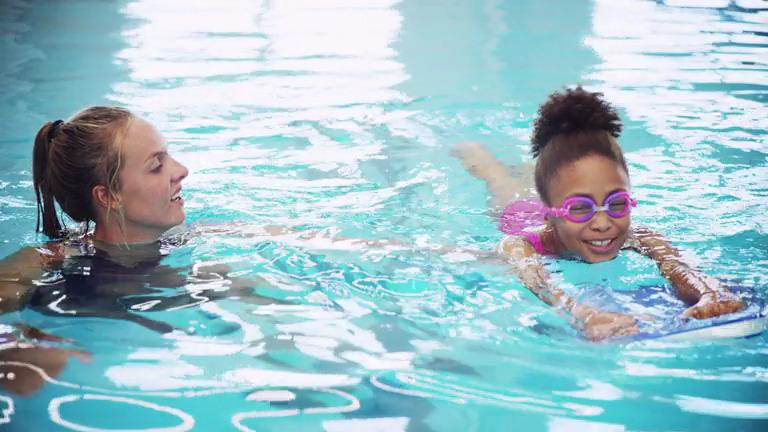Swimming: (336, 76, 768, 376), (0, 69, 298, 362)
